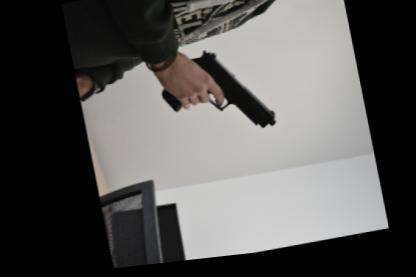pistol: (152, 42, 276, 148)
